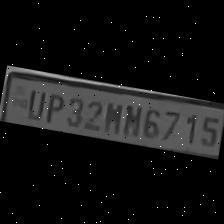1: (176, 109, 200, 145)
2: (82, 95, 106, 131)
3: (60, 93, 86, 128)
5: (194, 112, 222, 148)
6: (136, 103, 163, 140)
7: (157, 106, 181, 142)
M: (99, 98, 124, 134)
N: (118, 99, 142, 138)
P: (42, 90, 66, 124)
U: (21, 84, 46, 119)
